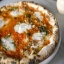pizza: (1, 2, 57, 64)
